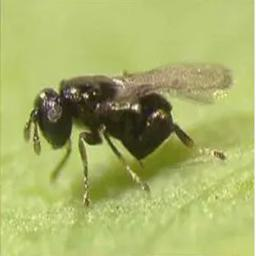liriomyza: (22, 61, 236, 206)
